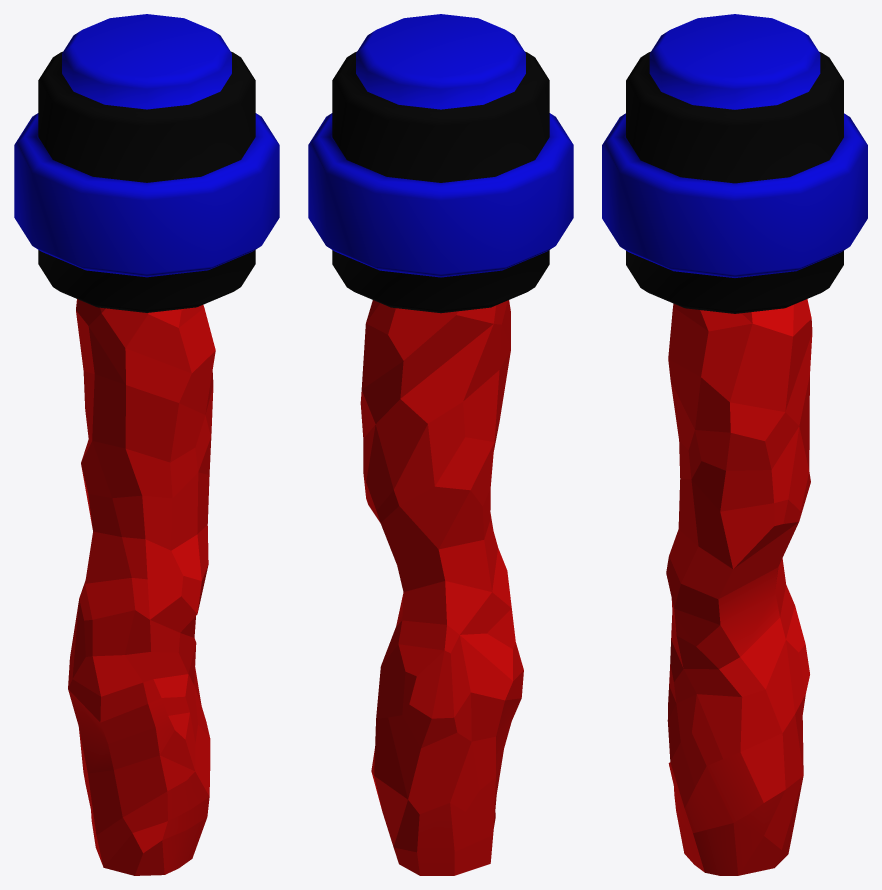
File: Torch_Top.fbx
The picture shows the model from 3 angles, left to right: view 1: azimuth 30°, elevation 25°; view 2: azimuth 150°, elevation 25°; view 3: azimuth 270°, elevation 25°; orthographic projection.
Parts seen in each view (by area): view 1: Torch_Top_Low; view 2: Torch_Top_Low; view 3: Torch_Top_Low.
Boxes of the visible parts, left/top/right/bottom form: Torch_Top_Low: left=14, top=14, right=279, bottom=875; Torch_Top_Low: left=308, top=14, right=573, bottom=875; Torch_Top_Low: left=602, top=14, right=867, bottom=875.
Size of the model in its own units: 6.6 by 22.29 by 6.6.
